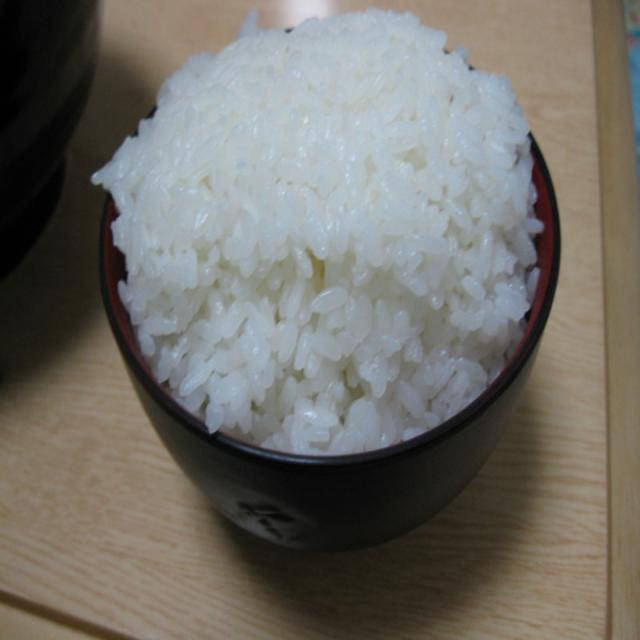Rice: (107, 2, 537, 450)
